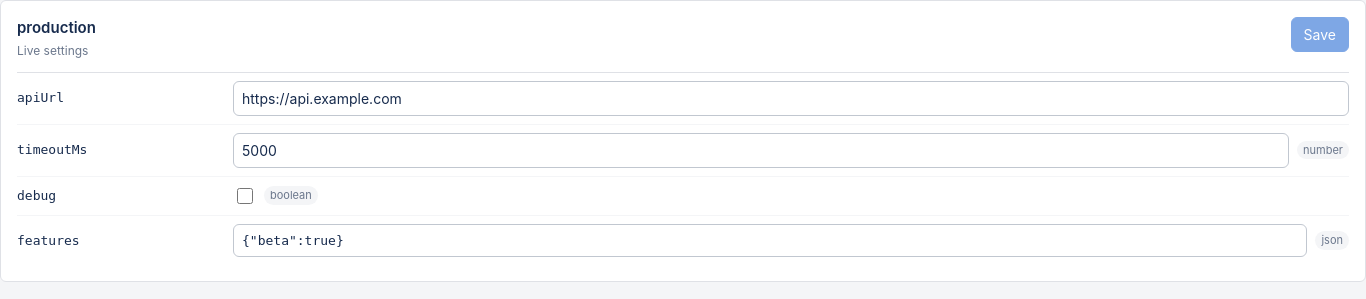
Scenario: ConfigurationCard › discards edits back to the last saved values
The width and height of the screenshot is (1366, 299).
Type "/v2" into the field labelled "apiUrl" at [791, 98], box [233,80,1349,116]
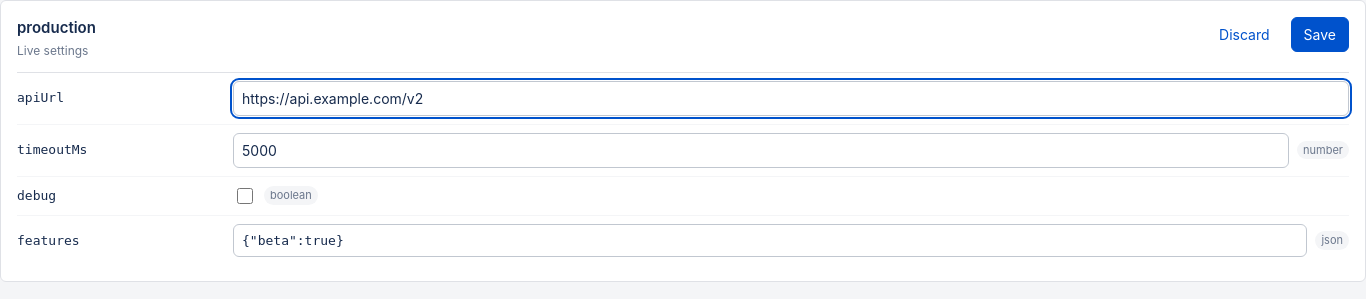
Click the button "Discard" at [1244, 34], box [1206,17,1283,52]
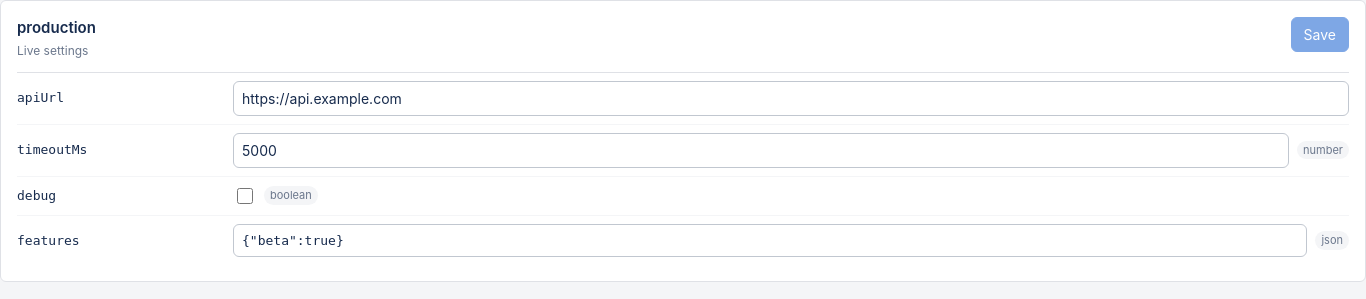
Check: the field labelled "apiUrl" holds "https://api.example.com", box [233,80,1349,116]
Check: the button "Save" is disabled, box [1291,17,1349,52]
Check: the button "Discard" is gone
